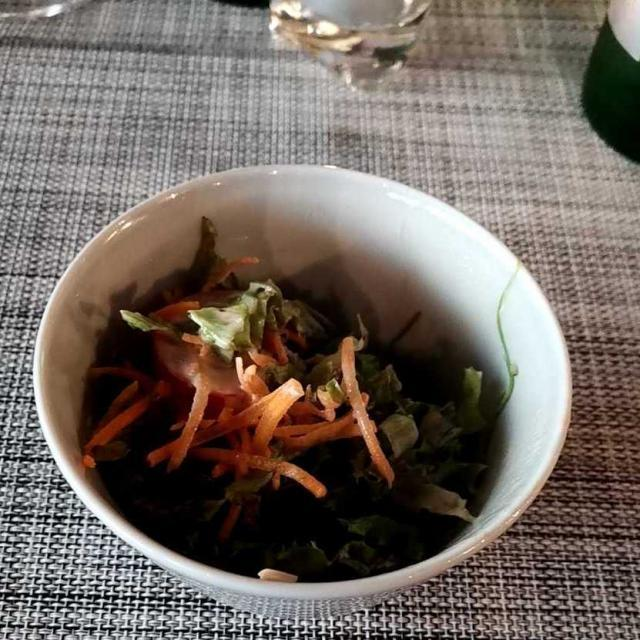carrot: (105, 346, 407, 501)
salad: (58, 272, 471, 599)
